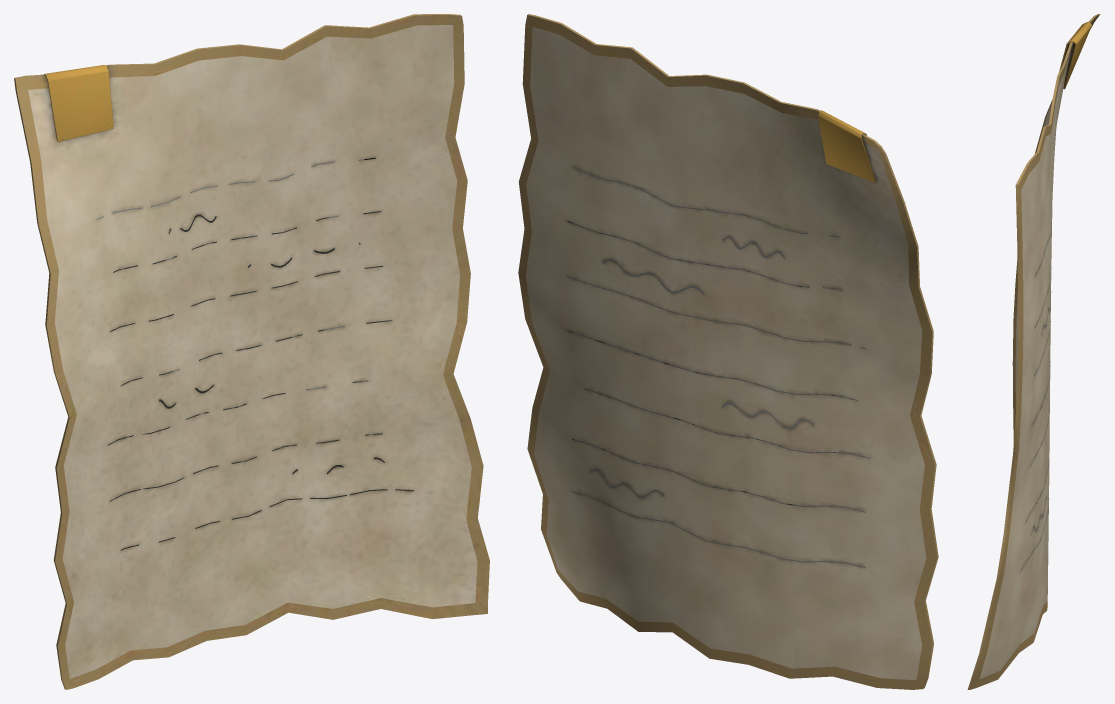
3 renders of one model, left to right at view 1: azimuth 30°, elevation 25°; view 2: azimuth 150°, elevation 25°; view 3: azimuth 270°, elevation 25°, orthographic. The views are drawn at different scales.
Parts seen in each view (by area): view 1: Warm_cream_parchment, Aged_torn_edges, Gold_brass_corner_clasp, Faded_navy_tide_ink; view 2: Warm_cream_parchment, Aged_torn_edges, Faded_navy_tide_ink, Gold_brass_corner_clasp; view 3: Warm_cream_parchment, Aged_torn_edges, Gold_brass_corner_clasp, Faded_navy_tide_ink.
Boxes of the visible parts, x1,y1,x2,y2 form: Warm_cream_parchment: [28, 25, 477, 678]; Aged_torn_edges: [14, 14, 489, 689]; Gold_brass_corner_clasp: [44, 65, 113, 141]; Faded_navy_tide_ink: [96, 157, 413, 550]; Warm_cream_parchment: [525, 27, 926, 680]; Aged_torn_edges: [518, 14, 938, 689]; Faded_navy_tide_ink: [565, 166, 870, 568]; Gold_brass_corner_clasp: [818, 110, 875, 182]; Warm_cream_parchment: [979, 46, 1074, 678]; Aged_torn_edges: [967, 14, 1100, 689]; Gold_brass_corner_clasp: [1059, 22, 1091, 89]; Faded_navy_tide_ink: [1021, 223, 1051, 571].
Bounding box in the file's own units: 0.238 × 0.32 × 0.0744.
4 materials, 4 textured.
